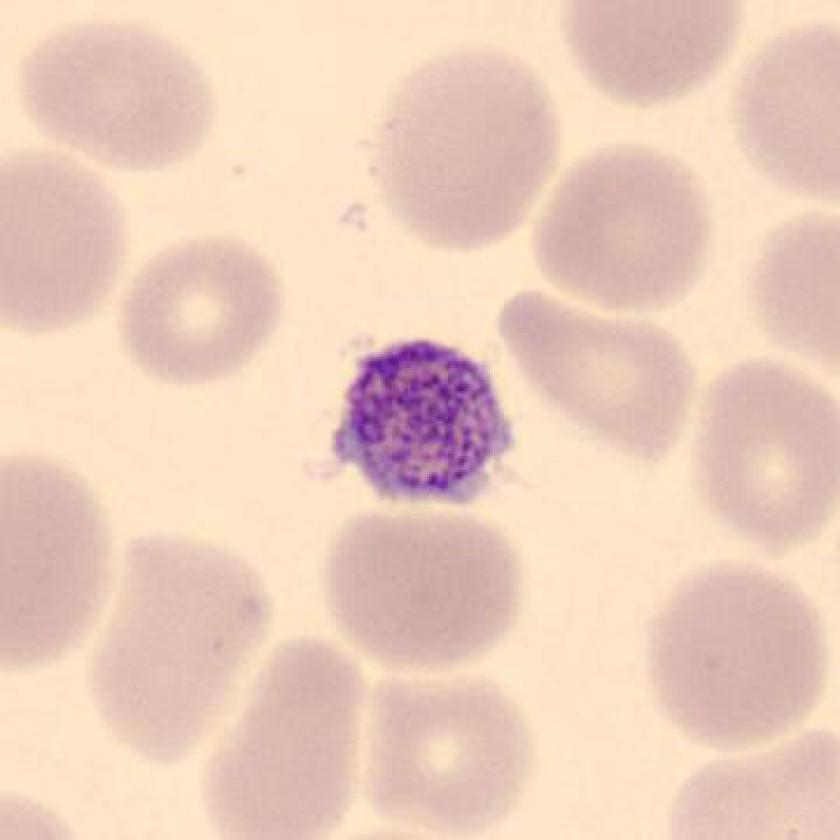platelets: (318, 325, 524, 519)
